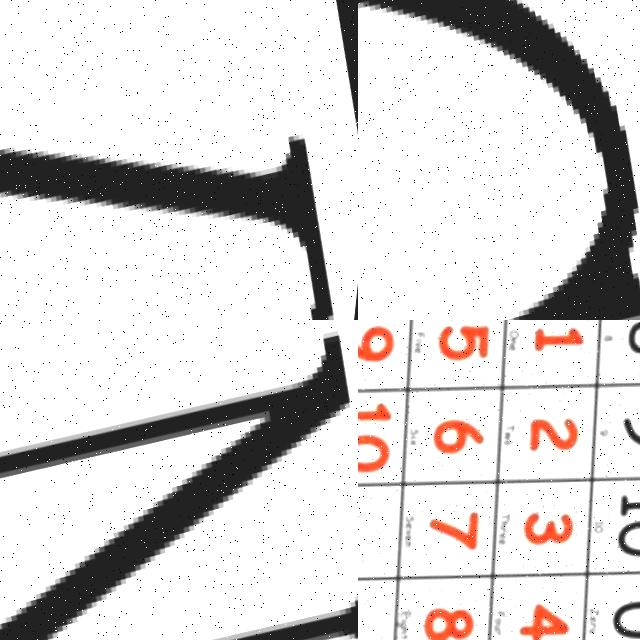0: (358, 419, 409, 489), (611, 507, 640, 571), (609, 583, 640, 640)
1: (522, 320, 596, 371), (358, 385, 411, 442), (613, 473, 640, 529)
2: (520, 396, 598, 470)
3: (517, 495, 592, 556)
4: (512, 584, 597, 640)
5: (428, 320, 511, 375)
6: (426, 399, 505, 469)
7: (423, 490, 504, 564)
8: (418, 586, 499, 640), (616, 320, 640, 368)
9: (358, 320, 413, 376), (614, 394, 640, 461)
C: (358, 0, 640, 320)
D: (0, 0, 358, 320)
N: (0, 320, 358, 640)
